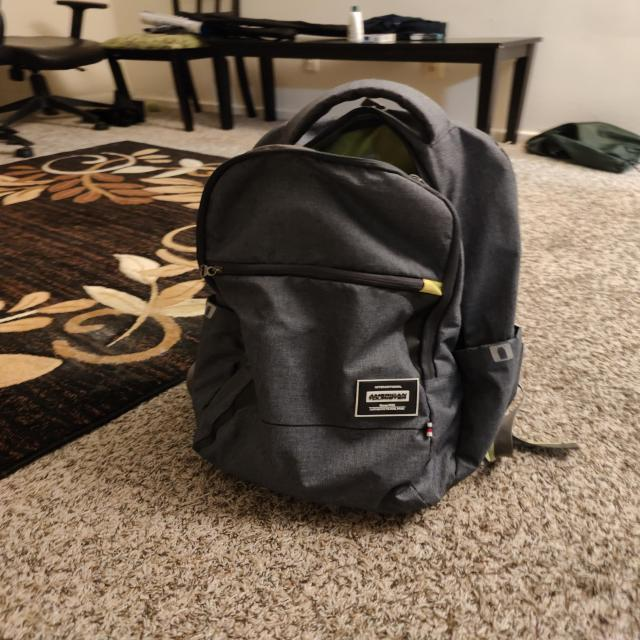bag: (179, 79, 523, 506)
